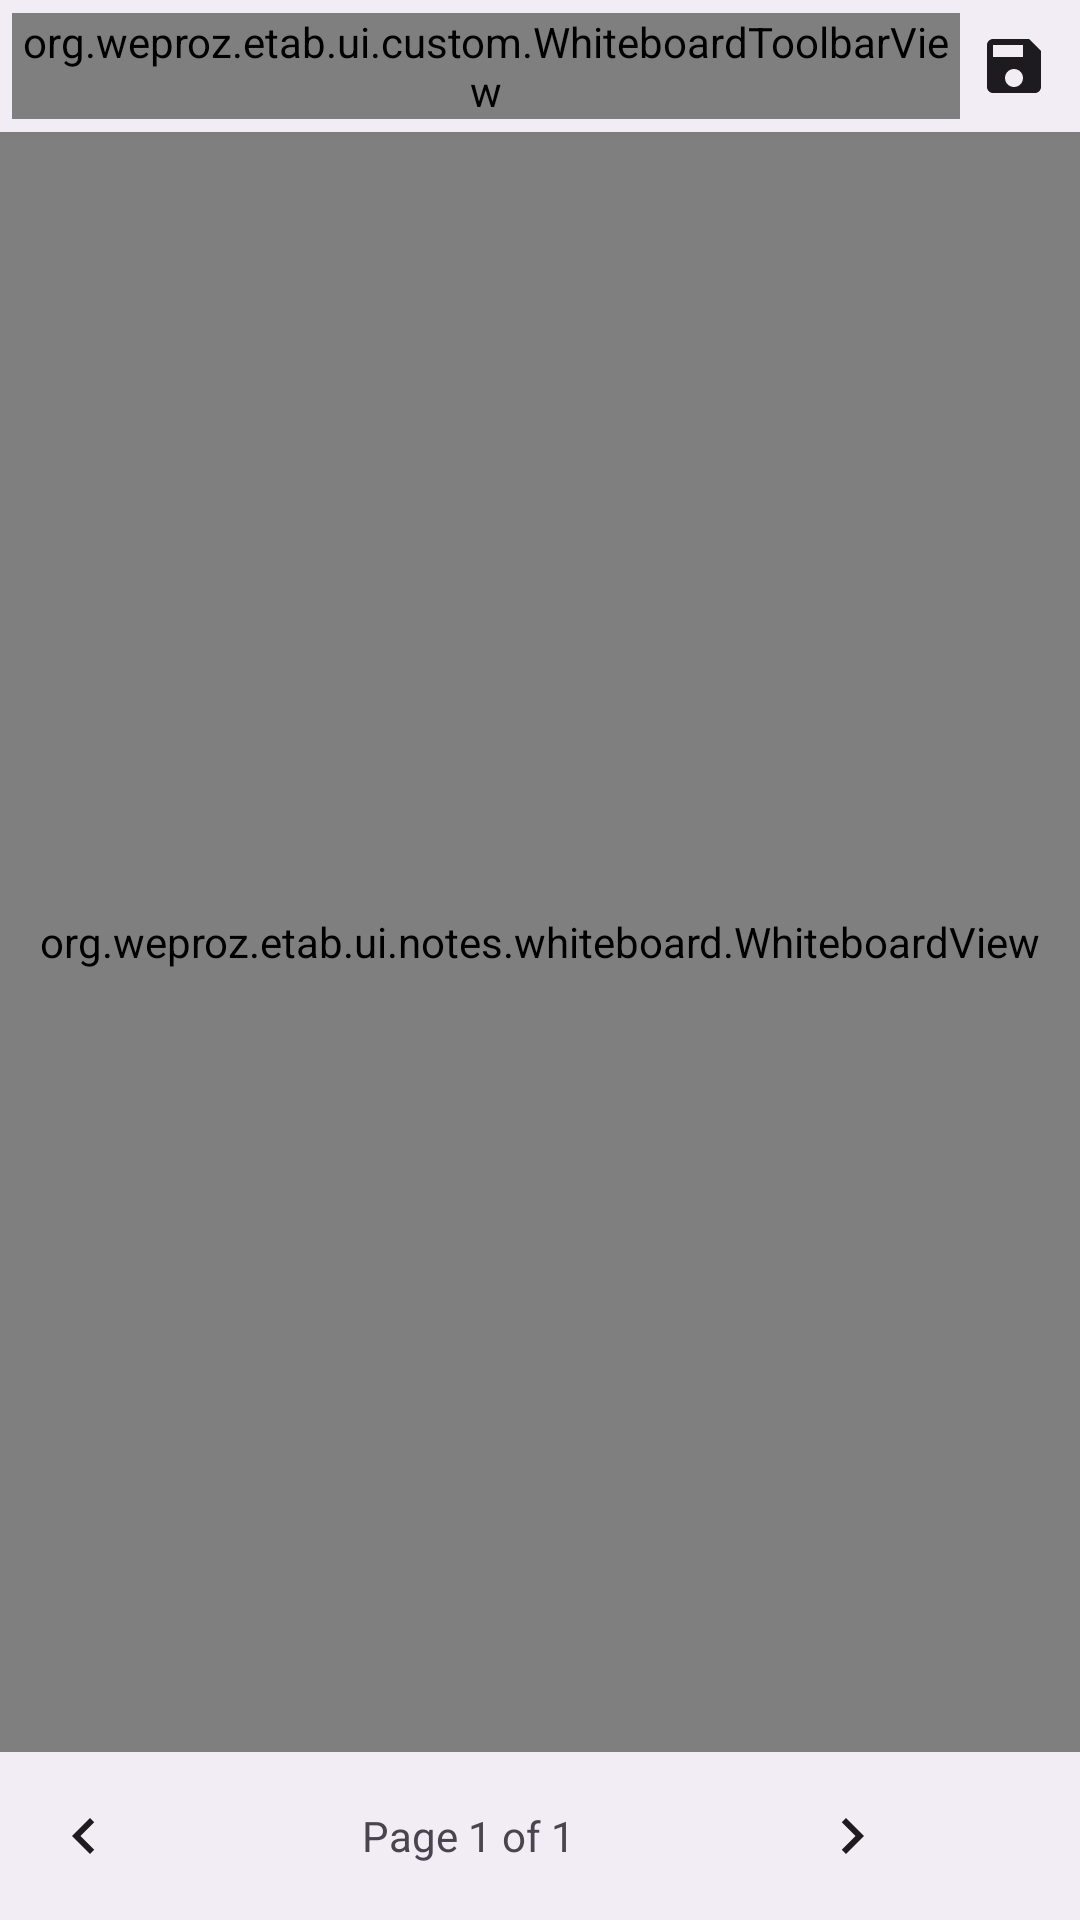

Icon bounding boxes for this 1080w x 1920h phone screenshot, format (x1, y1, x2, y2):
Next page: (842, 1818, 864, 1854)
Previous page: (72, 1818, 94, 1854)
save: (987, 39, 1041, 93)
